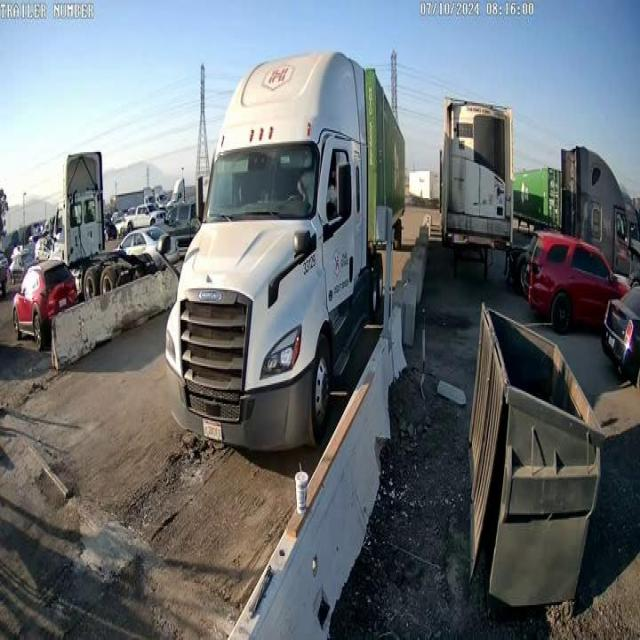TRUCK_OUT: (164, 49, 406, 455)
